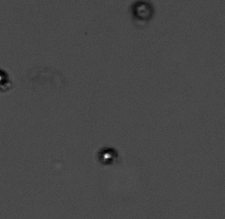Dead Cell: (132, 1, 154, 20)
Living Cell: (98, 147, 120, 165), (1, 68, 10, 89)
